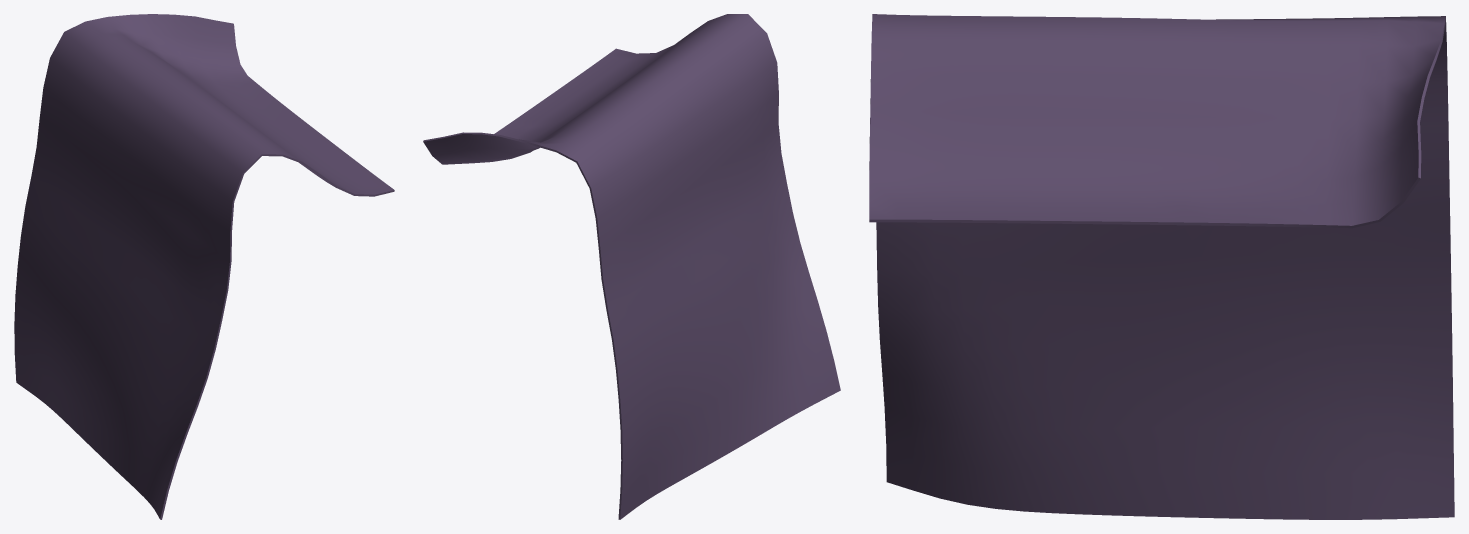
Rendered from Trapo Carro.fbx.
3 renders of one model, left to right at view 1: azimuth 30°, elevation 25°; view 2: azimuth 150°, elevation 25°; view 3: azimuth 270°, elevation 25°, orthographic. The views are drawn at different scales.
Visible parts, largest first — view 1: Trapo_Carro; view 2: Trapo_Carro; view 3: Trapo_Carro.
Part boxes in pixels (x1,y1,x2,y2): Trapo_Carro: [14, 14, 394, 519]; Trapo_Carro: [423, 14, 840, 519]; Trapo_Carro: [869, 14, 1454, 519].
Bounding box in the file's own units: 0.2879 × 0.4005 × 0.3834.
